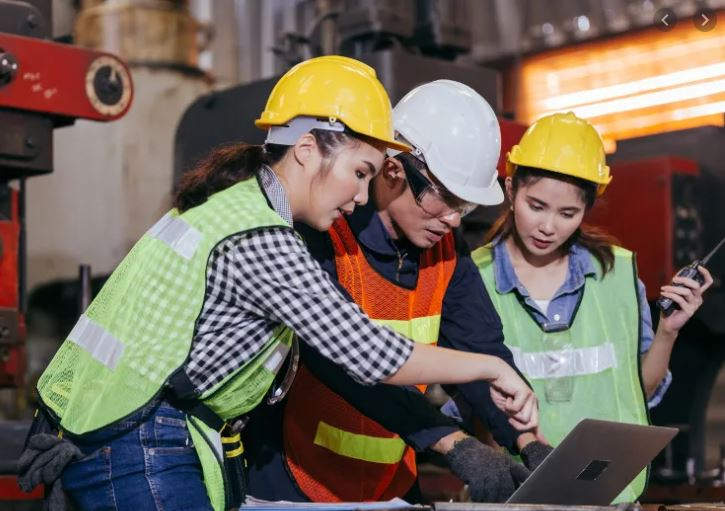Safety Helmet: (244, 39, 410, 243), (379, 57, 504, 261), (501, 91, 615, 273)
